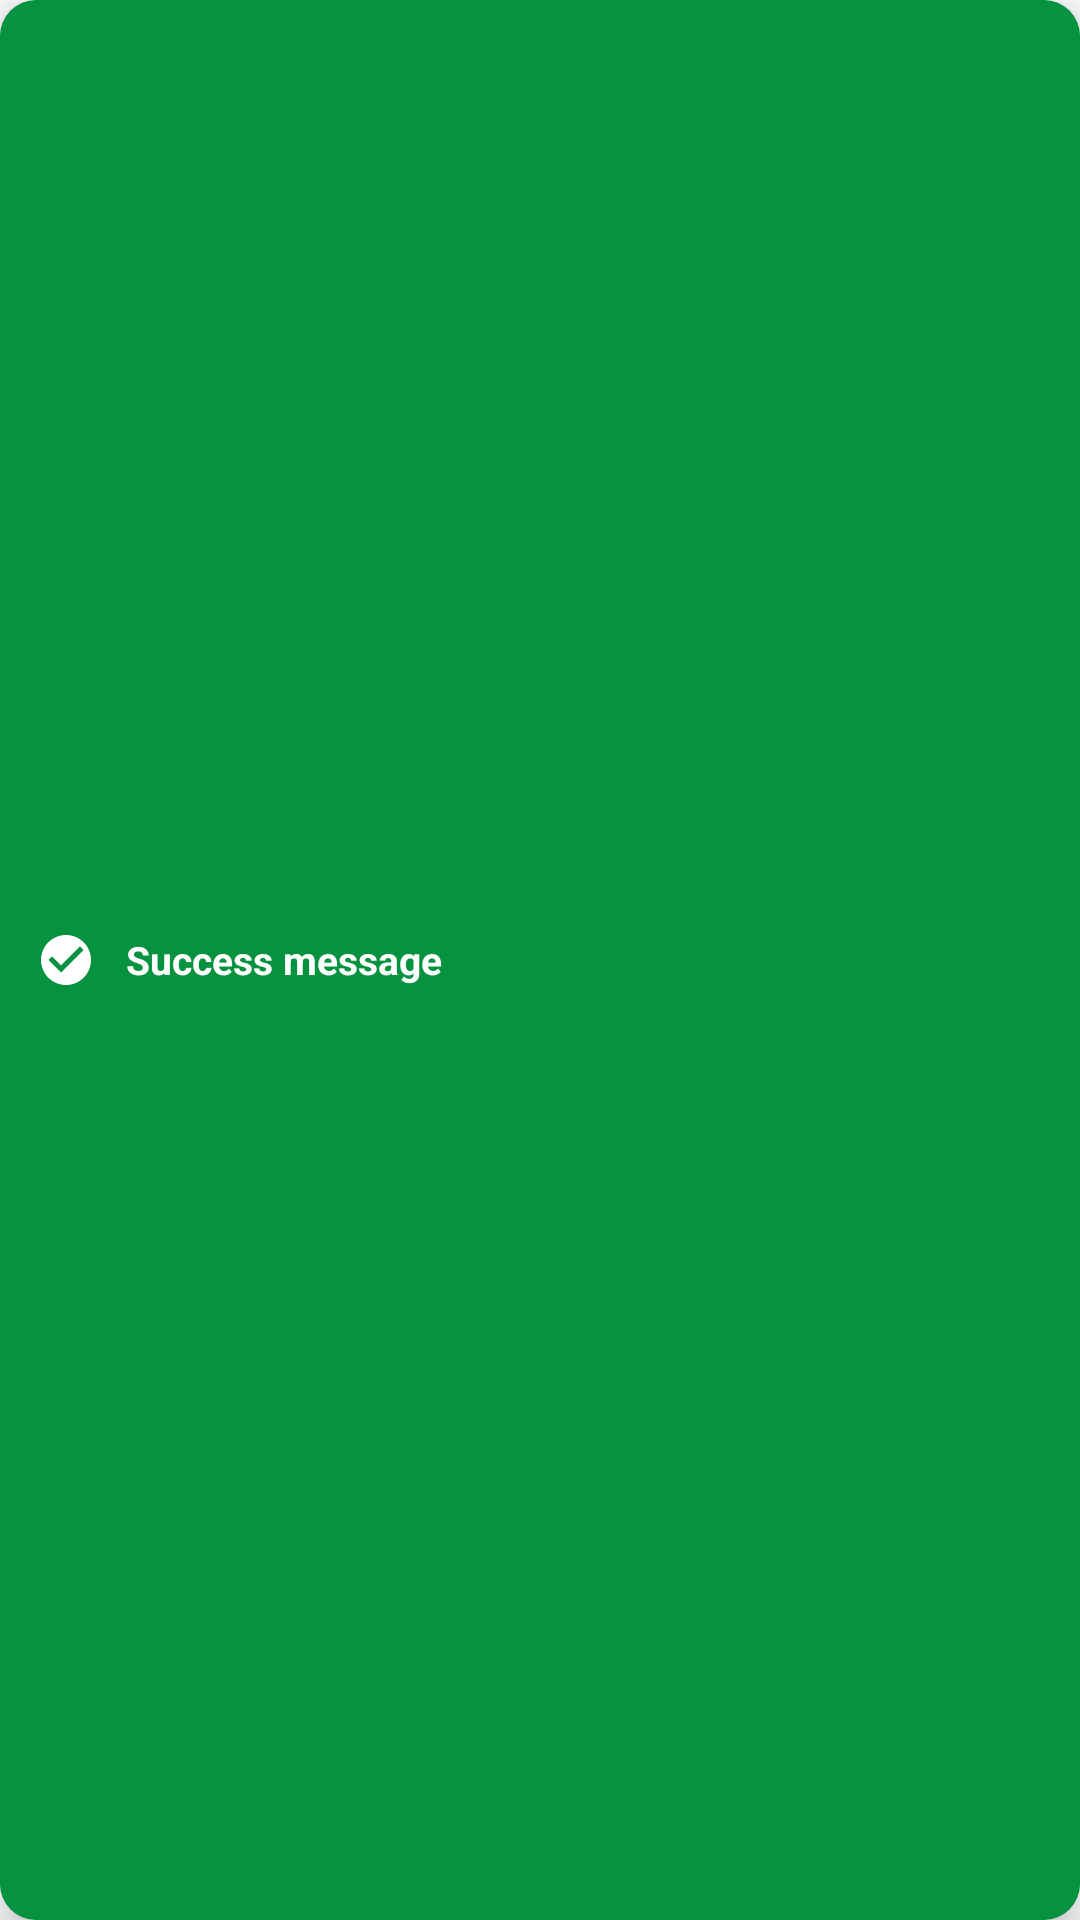

Named icons in this screenshot (1080x1920) and their bounding boxes, {"left": x1, "top": y1, "right": x2, "bottom": y2}:
check circle: {"left": 41, "top": 935, "right": 91, "bottom": 985}
